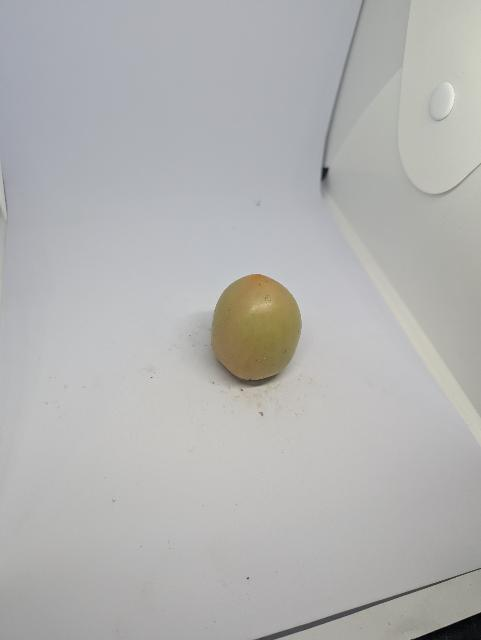breaker: (211, 274, 302, 381)
